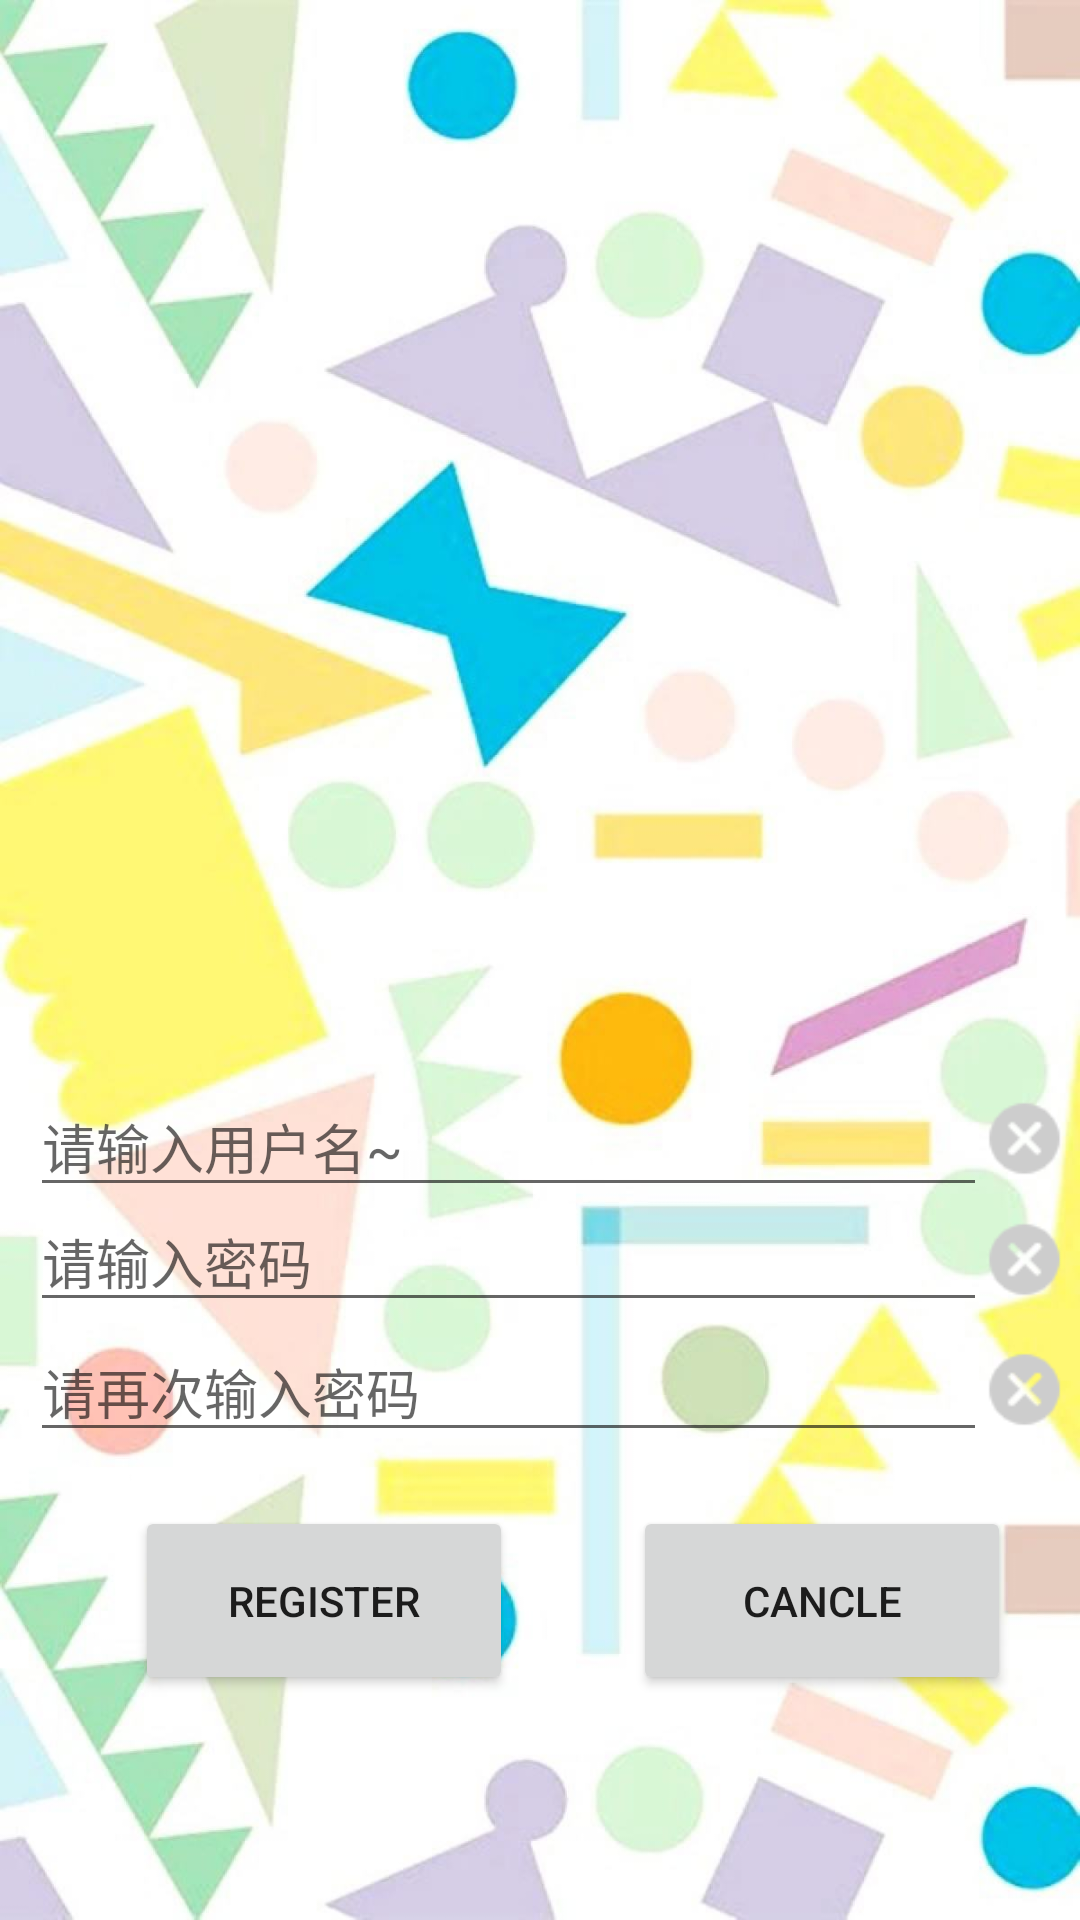

Point at icon controls on the screen. Image size 1080w x 1920h, points as [x,y].
cha: [1024,1138], [1024,1259], [1024,1389]
